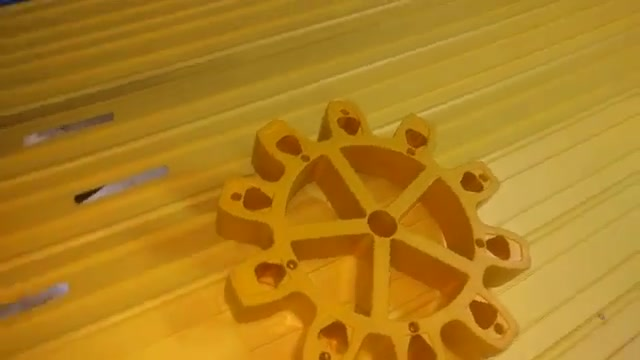gear: (193, 84, 530, 360)
